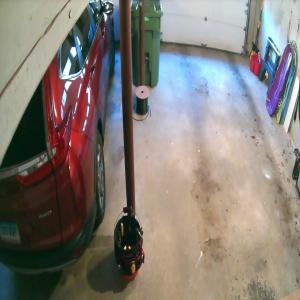garbage bin: (130, 0, 163, 89)
honda crv: (0, 0, 115, 274)
tool bucket: (114, 206, 143, 281)
